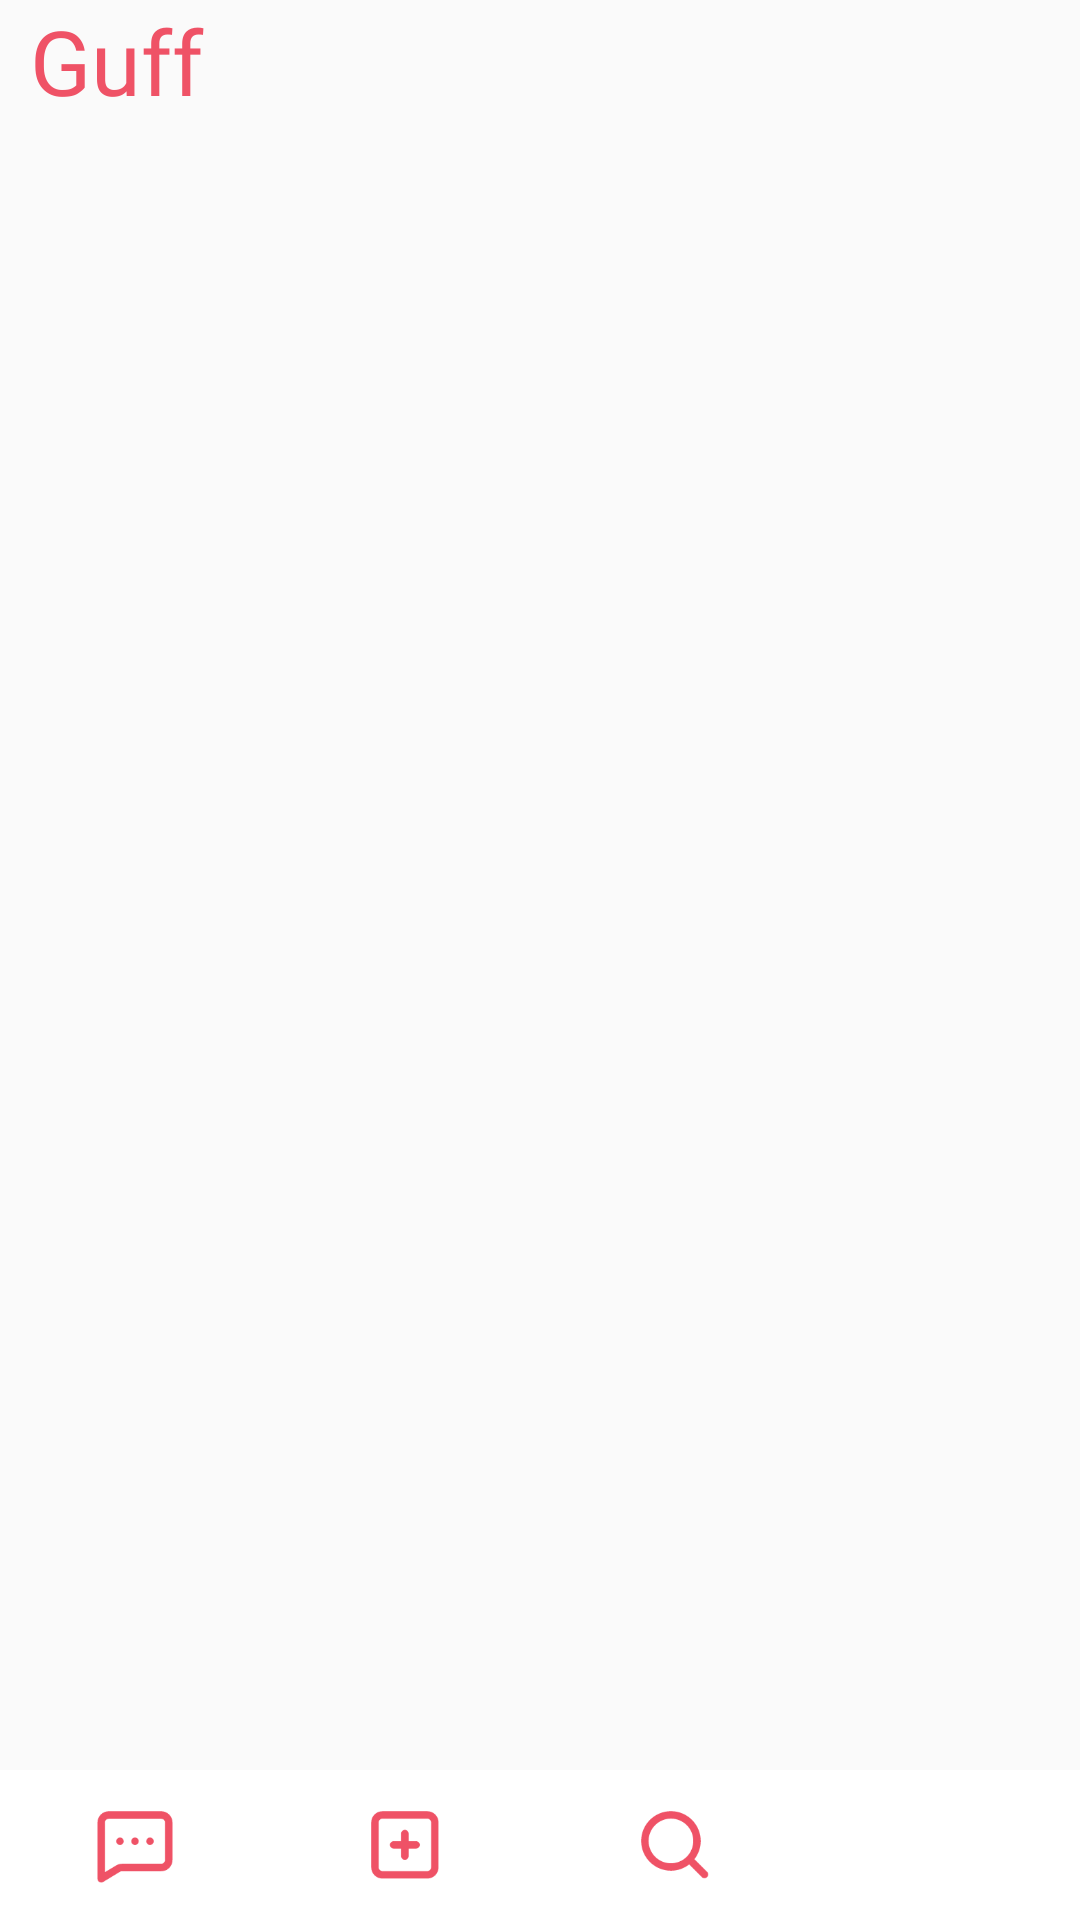

Icon bounding boxes for this 1080w x 1920h phone screenshot, format (x1, y1, x2, y2):
add: (371, 1811, 439, 1879)
chats: (97, 1811, 173, 1883)
search: (641, 1811, 709, 1879)
